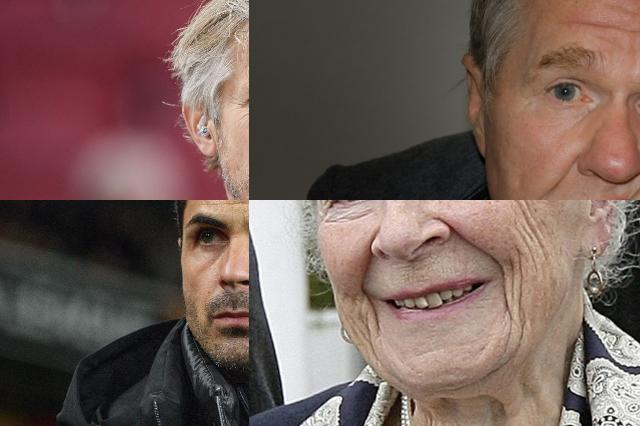crows_feet: (232, 96, 244, 116)
forehead: (568, 14, 626, 36), (208, 200, 249, 209)
gummy_smile: (452, 222, 494, 262), (548, 151, 576, 191), (352, 250, 376, 284)
masseter: (505, 200, 547, 249)
sad_smile: (499, 261, 529, 323), (359, 294, 388, 336)
